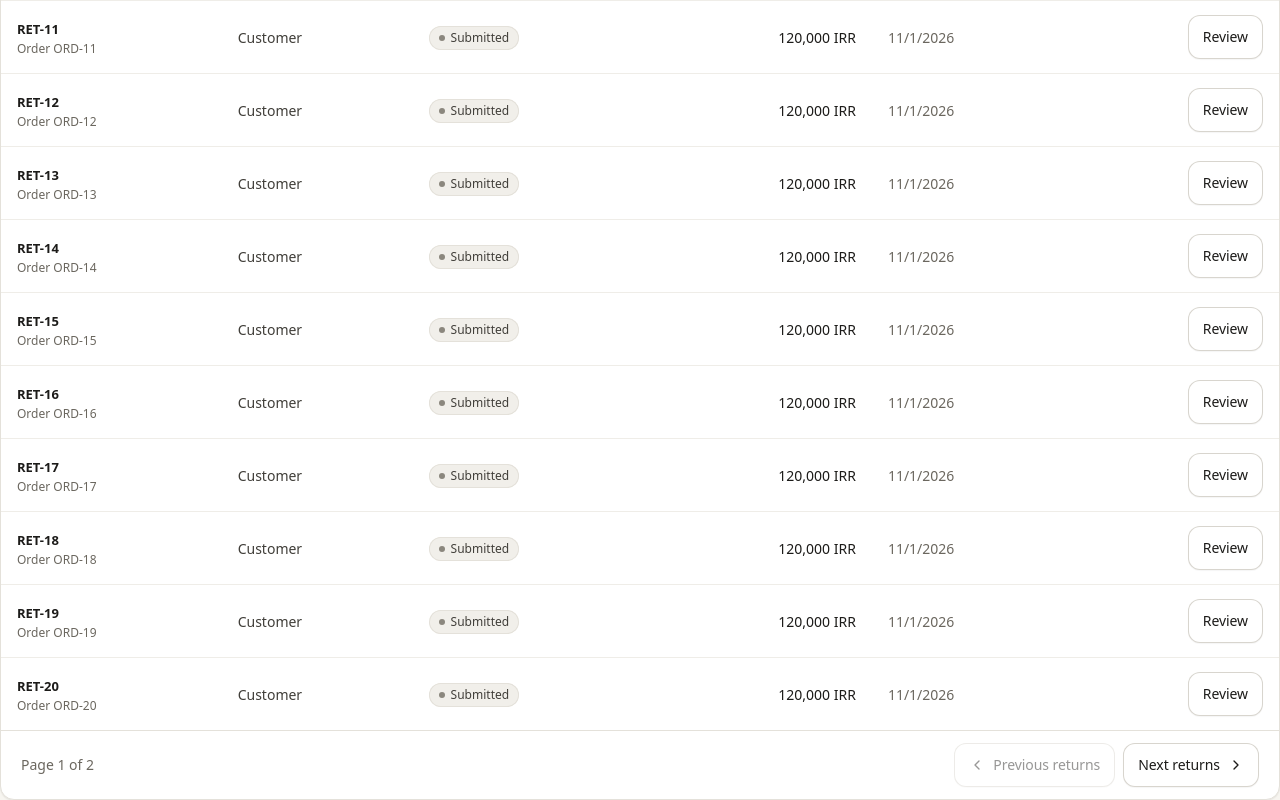
Test case: admin-returns return pagination › retries a failed later page while keeping previous navigation available
This screenshot has width=1280, height=800.
(page scrolled)
Click the button "Next returns" at [1191, 765], box [1123,743,1259,787]
(page scrolled)
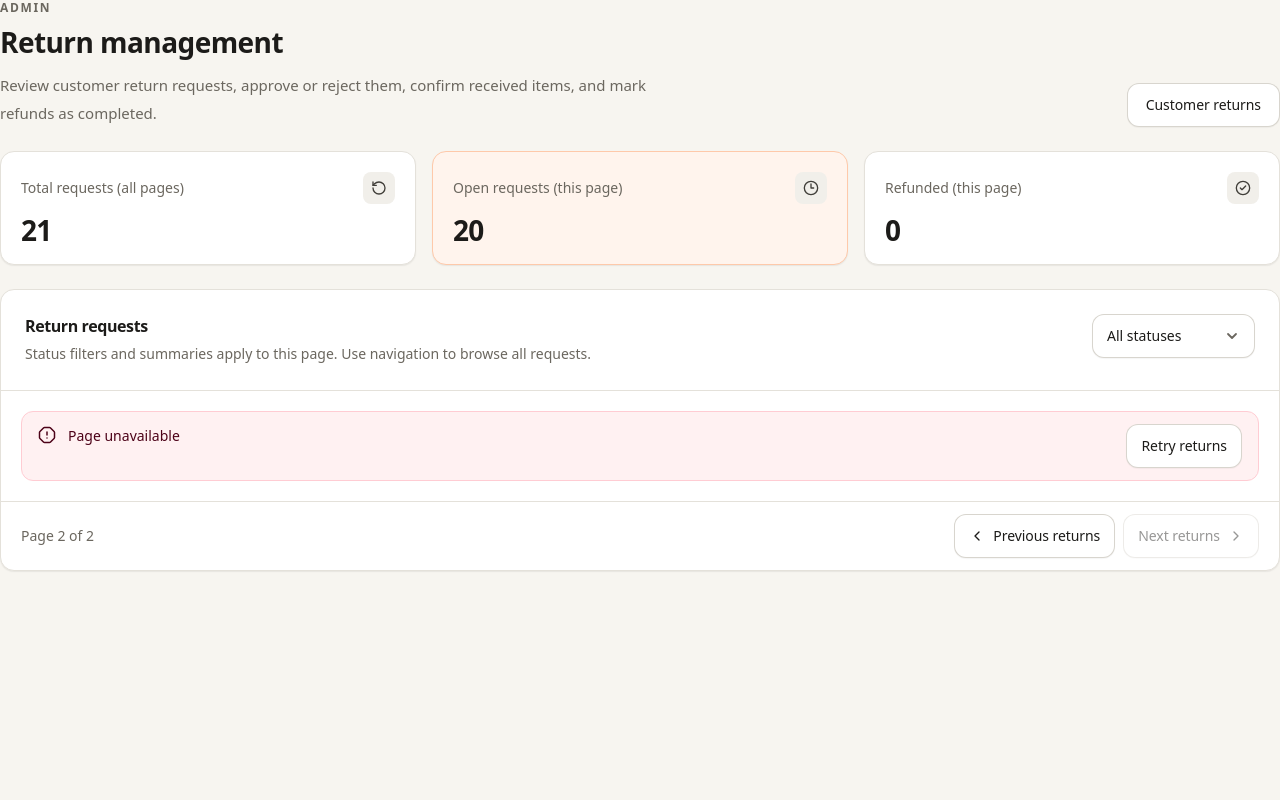
Expected: the text "Page unavailable" is shown, [68,426,180,445]
Expected: the button "Previous returns" is enabled, [954,514,1115,558]
Click the button "Retry returns" at [1184, 446], box [1126,424,1242,468]
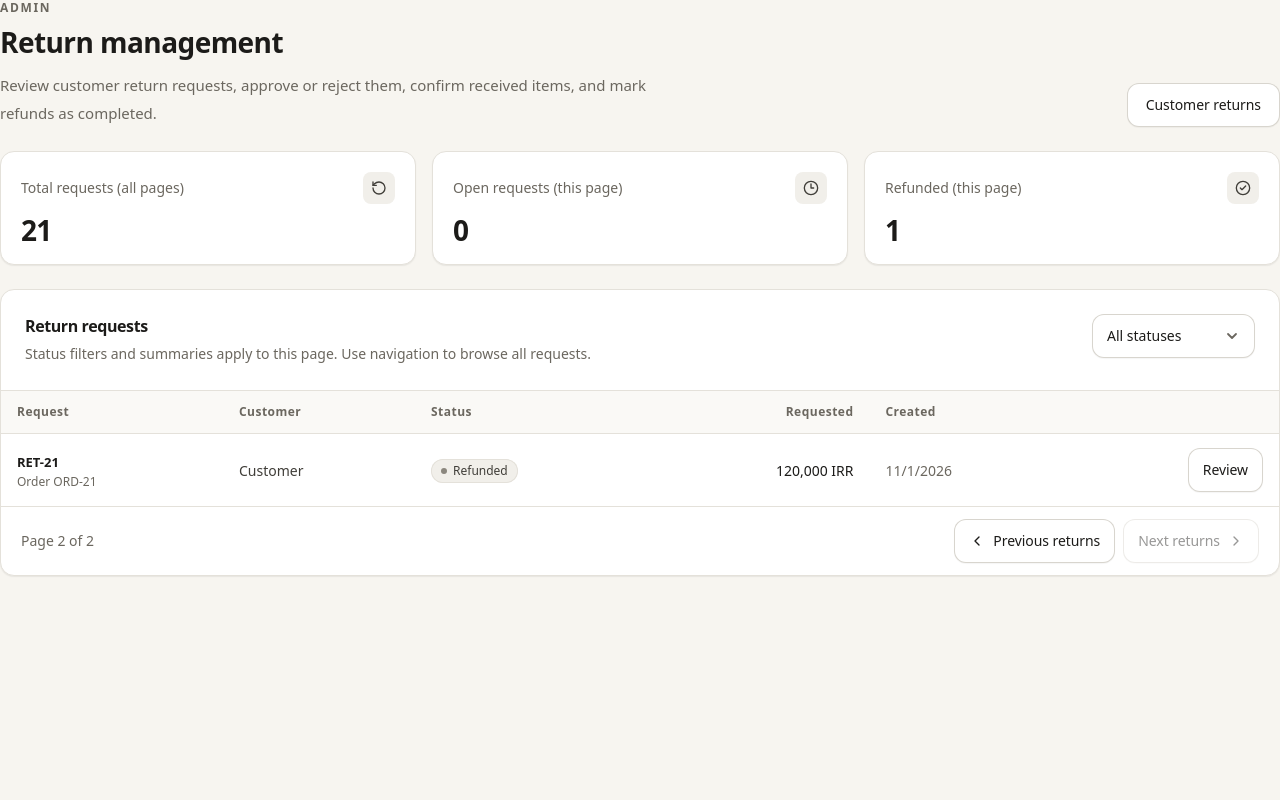
Expected: the link "RET-21" is shown, [17,453,59,471]
